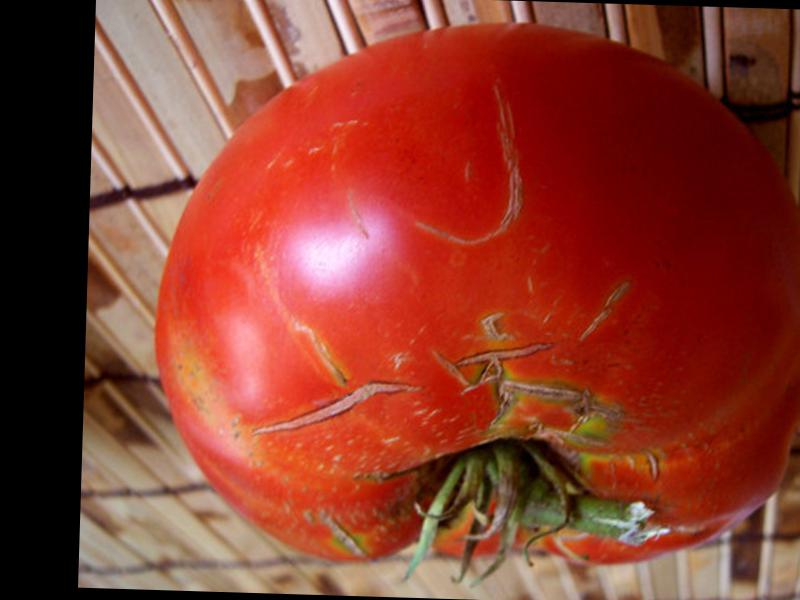Tomato: (149, 21, 800, 577)
